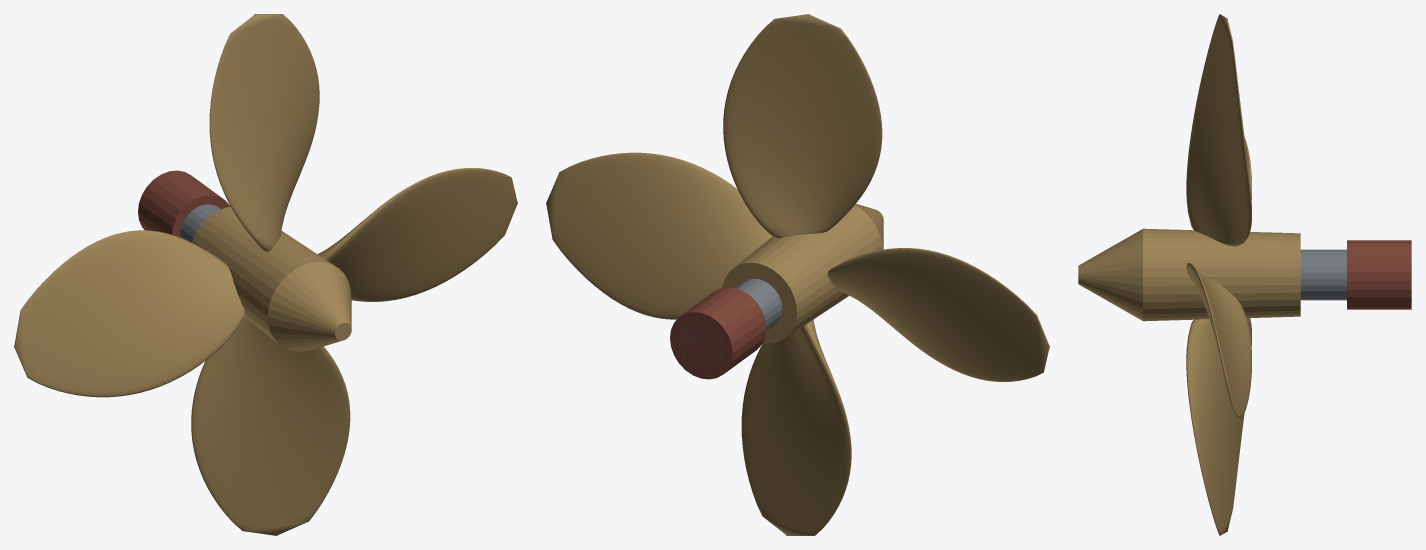
3 views of the same model, side by side, from view 1: azimuth 30°, elevation 25°; view 2: azimuth 150°, elevation 25°; view 3: azimuth 270°, elevation 25° (orthographic). The views are drawn at different scales.
Visible parts, largest first — view 1: component.spin.mesh, component.root.mesh; view 2: component.spin.mesh, component.root.mesh; view 3: component.spin.mesh, component.root.mesh.
Part boxes in pixels (box(x1,y1,x2,y2)): component.spin.mesh: box(14, 14, 517, 535); component.root.mesh: box(138, 170, 230, 242); component.spin.mesh: box(546, 14, 1049, 535); component.root.mesh: box(670, 278, 782, 379); component.spin.mesh: box(1078, 14, 1300, 535); component.root.mesh: box(1300, 240, 1411, 309).
Size of the model in its own units: 1.2 by 1.2 by 0.72.
